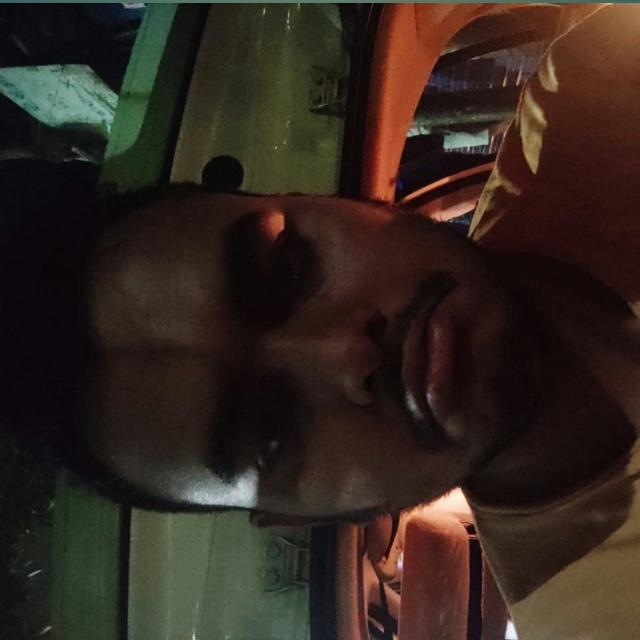Sad: (66, 53, 510, 573)
